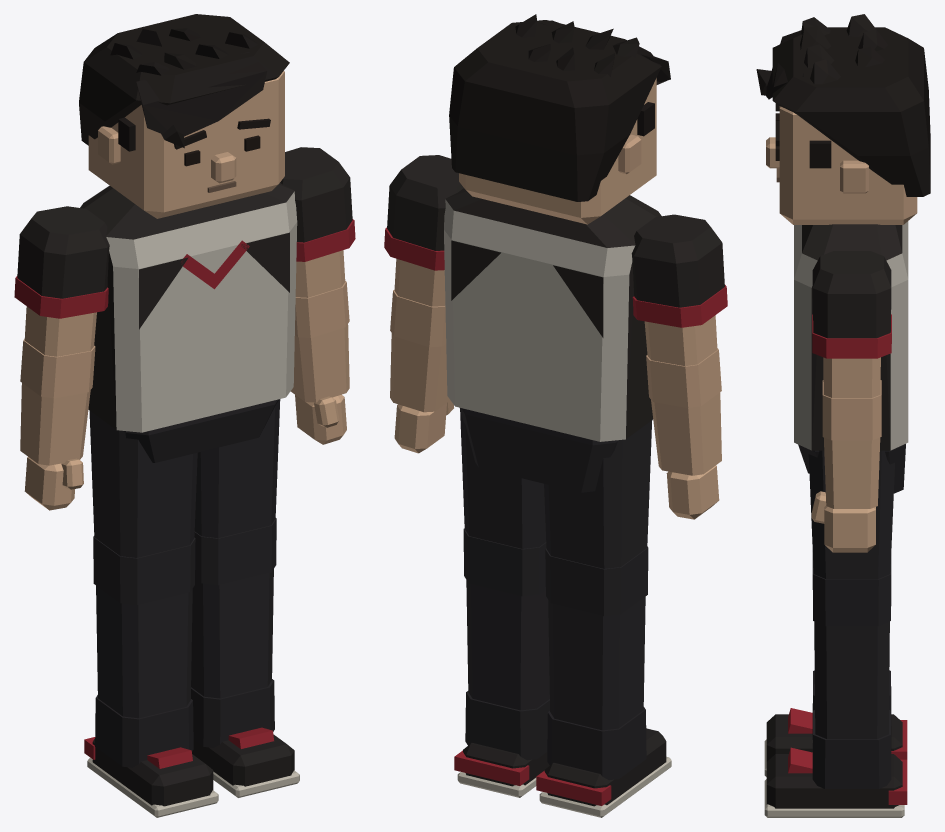
The model's file is tl_char_host_peyz_v01.glb.
3 views of the same model, side by side, from view 1: azimuth 30°, elevation 25°; view 2: azimuth 150°, elevation 25°; view 3: azimuth 270°, elevation 25° (orthographic).
Parts seen in each view (by area): view 1: spine, head, leg_lower_r, leg_lower_l, arm_upper_r, leg_upper_r, arm_lower_r, arm_upper_l, arm_lower_l, leg_upper_l, hips; view 2: spine, head, leg_lower_r, leg_lower_l, arm_upper_r, leg_upper_r, arm_lower_r, arm_upper_l, arm_lower_l, hips, leg_upper_l; view 3: head, leg_lower_l, spine, arm_upper_l, arm_lower_l, leg_upper_l, leg_lower_r, hips.
Part boxes in pixels (box(x1,y1,x2,y2)): spine: box(80, 183, 297, 432); head: box(79, 14, 289, 218); leg_lower_r: box(84, 536, 218, 817); leg_lower_l: box(191, 518, 299, 797); arm_upper_r: box(14, 206, 109, 356); leg_upper_r: box(89, 411, 197, 557); arm_lower_r: box(20, 339, 95, 510); arm_upper_l: box(280, 147, 355, 297); arm_lower_l: box(290, 281, 349, 444); leg_upper_l: box(194, 399, 280, 538); hips: box(123, 399, 278, 462); spine: box(444, 188, 661, 441); head: box(449, 14, 670, 224); leg_lower_r: box(536, 546, 671, 817); leg_lower_l: box(454, 528, 549, 797); arm_upper_r: box(631, 214, 727, 366); leg_upper_r: box(544, 420, 652, 568); arm_lower_r: box(646, 348, 721, 519); arm_upper_l: box(384, 155, 463, 306); arm_lower_l: box(390, 289, 453, 453); hips: box(460, 408, 617, 492); leg_upper_l: box(460, 409, 546, 548); head: box(756, 14, 930, 224); leg_lower_l: box(764, 552, 907, 817); spine: box(794, 221, 908, 450); arm_upper_l: box(812, 251, 891, 397); arm_lower_l: box(811, 380, 881, 552); leg_upper_l: box(808, 450, 894, 579); leg_lower_r: box(764, 670, 907, 776); hips: box(798, 444, 905, 493).
Bounding box in the file's own units: 0.777 × 1.74 × 0.371.
